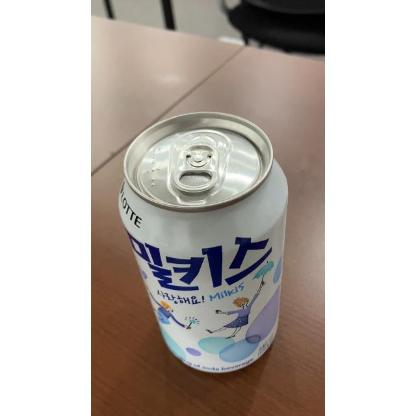Can: (115, 110, 287, 380)
